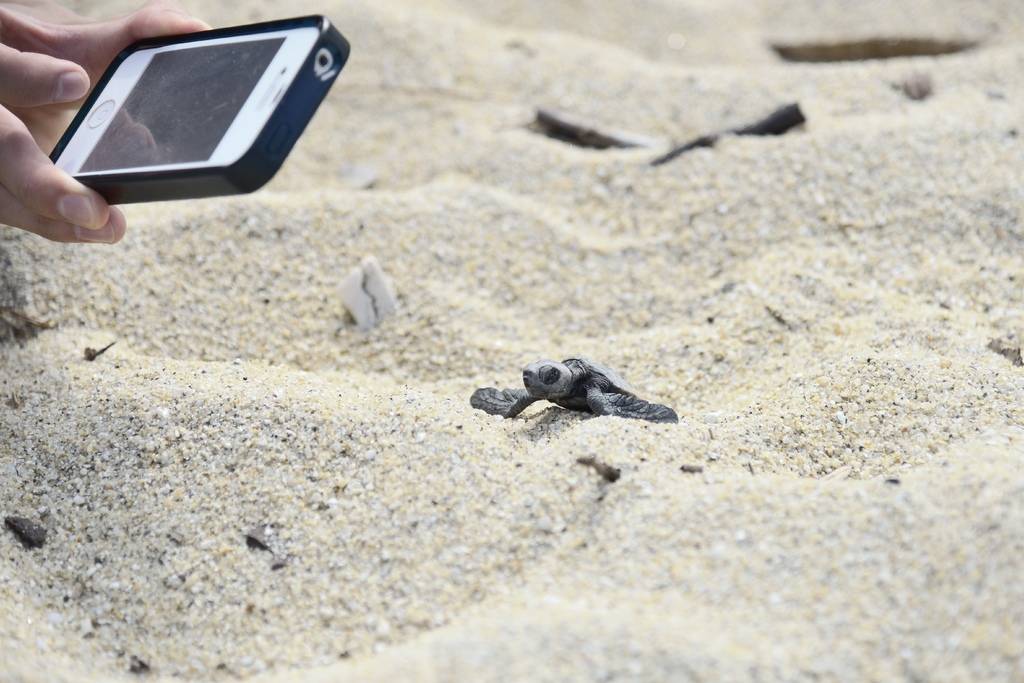Sea turtles: (466, 357, 682, 423)
